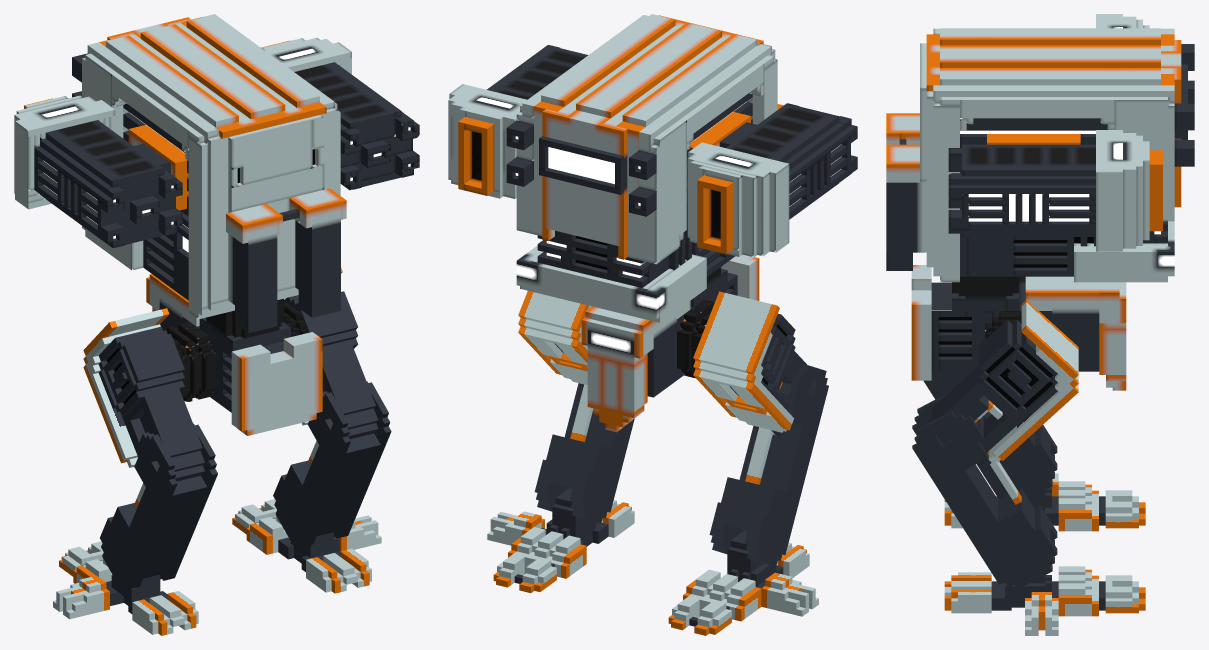
File: Mecha.dae
3 views of the same model, side by side, from view 1: azimuth 30°, elevation 25°; view 2: azimuth 150°, elevation 25°; view 3: azimuth 270°, elevation 25° (orthographic).
Visible parts, largest first — view 1: MechaTop-local, RTurret-local, Mechabot-local, RLeg-local, RKnee-local, LKnee-local, LTurret-local, RFoot-local, LFoot-local, LLeg-local; view 2: MechaTop-local, RTurret-local, Mechabot-local, RKnee-local, RLeg-local, LTurret-local, RFoot-local, LFoot-local, LKnee-local, LLeg-local; view 3: MechaTop-local, LTurret-local, Mechabot-local, LKnee-local, LLeg-local, LFoot-local, RFoot-local, RKnee-local, RTurret-local.
Boxes of the visible parts, x1,y1,x2,y2 form: MechaTop-local: (72,14,346,333); RTurret-local: (14,95,182,248); Mechabot-local: (146,274,322,435); RLeg-local: (83,308,204,481); RKnee-local: (100,423,217,589); LKnee-local: (273,381,391,546); LTurret-local: (261,37,419,190); RFoot-local: (53,541,198,635); LFoot-local: (232,499,381,593); LLeg-local: (284,267,378,439); MechaTop-local: (506,14,783,322); RTurret-local: (687,103,857,257); Mechabot-local: (581,254,759,432); RKnee-local: (709,364,828,566); RLeg-local: (693,291,810,436); LTurret-local: (448,45,588,198); RFoot-local: (668,531,818,635); LFoot-local: (487,488,634,592); LKnee-local: (534,383,634,523); LLeg-local: (518,291,591,387); MechaTop-local: (886,28,1194,282); LTurret-local: (948,130,1162,251); Mechabot-local: (911,265,1126,390); LKnee-local: (912,392,1057,589); LLeg-local: (927,300,1078,469); LFoot-local: (944,566,1145,635); RFoot-local: (944,473,1145,531); RKnee-local: (923,371,1057,499); RTurret-local: (1096,14,1149,28).
Bounding box in the file's own units: 56 × 83.23 × 46.
